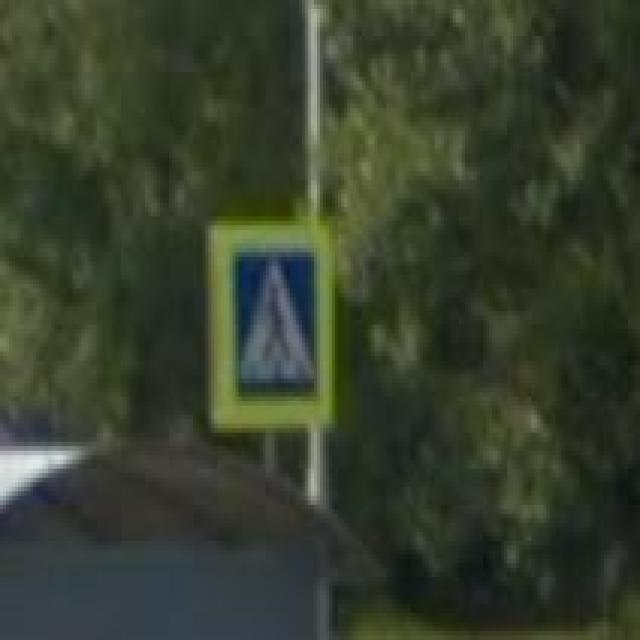crosswalk: (205, 221, 335, 433)
